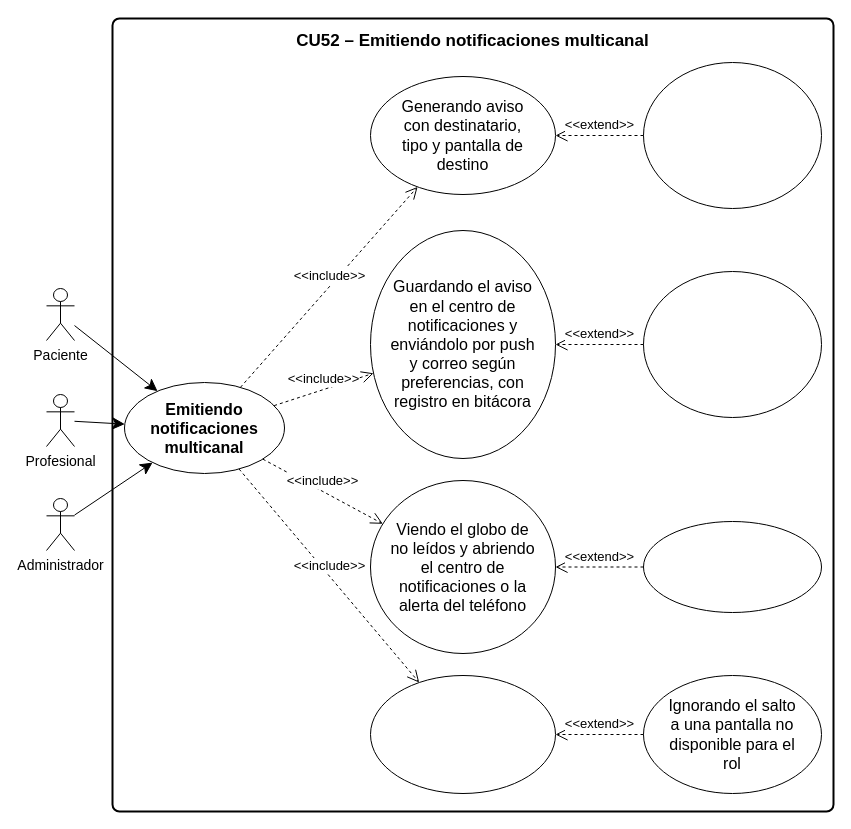
Some shapes in this 851 by 829 pixel diagram are drawn without their labels. Here are the shapes that lost their labels. From the top down, the box of each, then its label:
(642, 62, 822, 208): Manteniendo el aviso en la app sin revertir la operación ante fallo de despacho
(642, 270, 822, 418): Enrutando solo por los canales habilitados (push desactivado o Expo Go)
(642, 520, 822, 612): Reingresando a la aplicación tras descarte visual
(370, 674, 556, 794): Abriendo la pantalla indicada en el aviso y marcándolo leído
